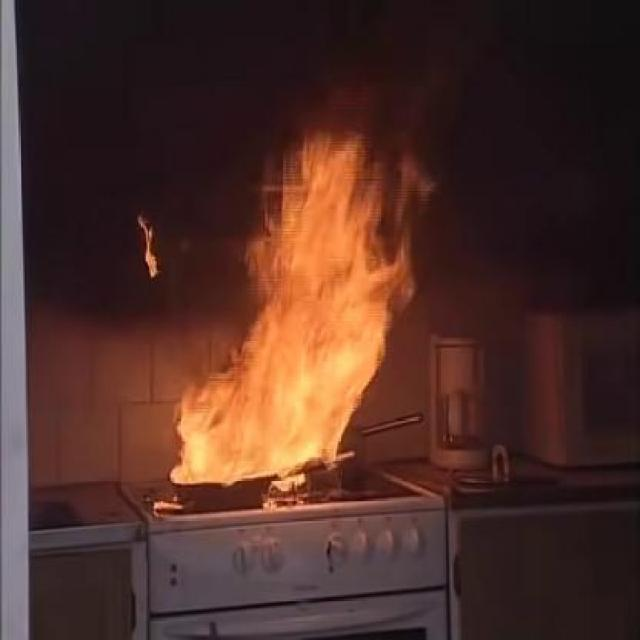fire: (147, 132, 430, 474)
